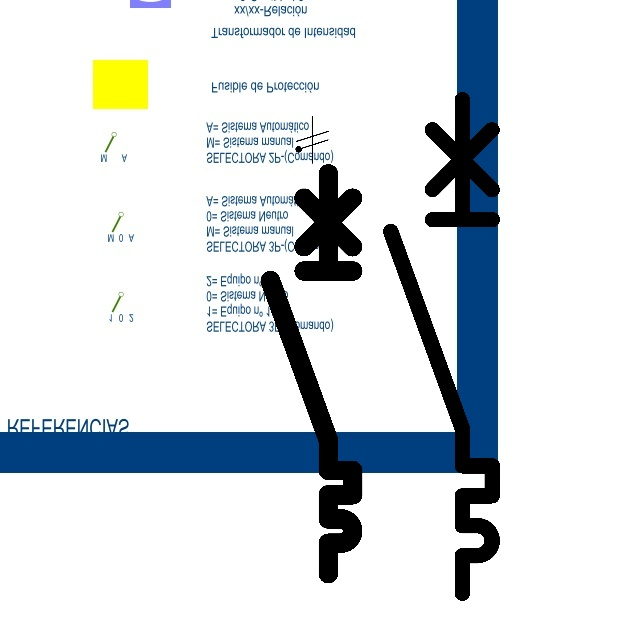interruptor_termomagnetico: (378, 87, 505, 606), (260, 163, 363, 583)
